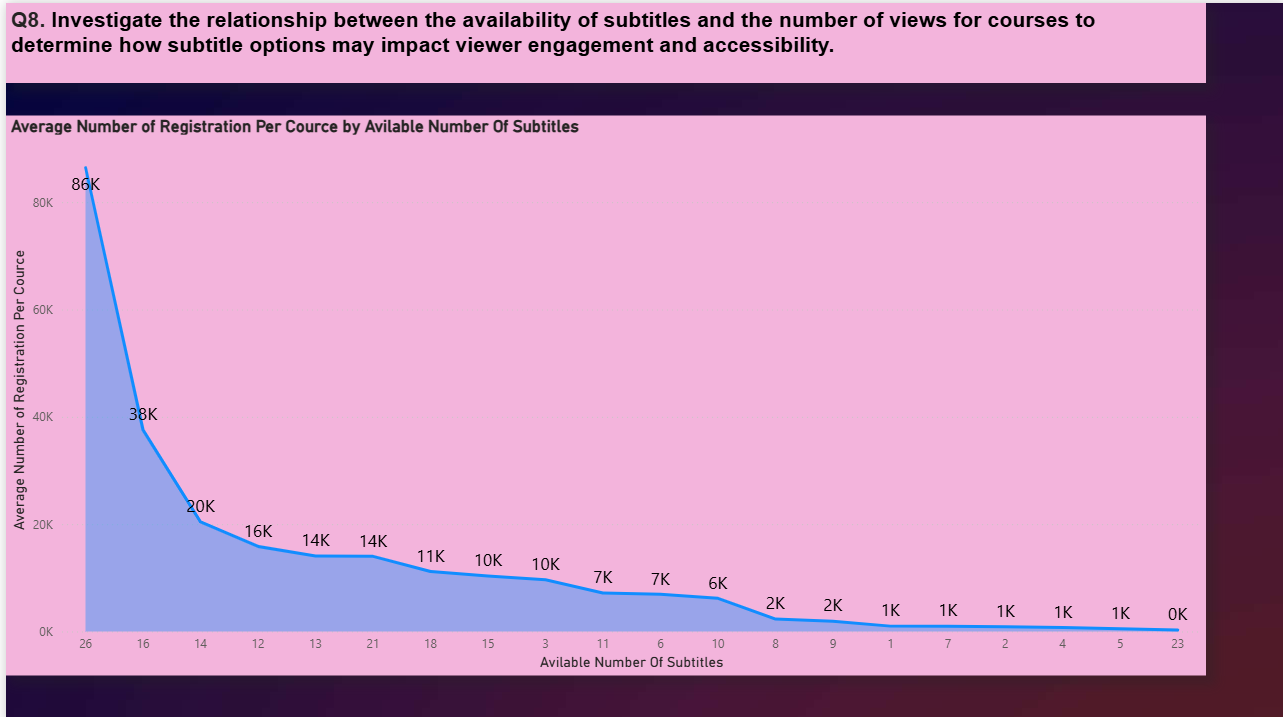

Layout of this report page (visuals, bound fields, positions):
{"tool":"powerbi","page":{"name":"Q8","canvas":[1280,720],"ordinal":8},"visuals":[{"type":"areaChart","fields":{"Category":["Online_Courses (2).Avilable Number Of Subtitles"],"Y":["Online_Courses.Average Number of Registration Per Cource"]},"box":[0,112,1200,560],"z":0},{"type":"textbox","box":[0,0,1200,80],"z":1000}]}

Visuals, with their boxes in screenshot pixels (x1, y1, x2, y2), scaled from the page's 1280x720 canvas onto the 1283x717 screenshot:
areaChart - Online_Courses (2).Avilable Number Of Subtitles x Online_Courses.Average Number of Registration Per Cource: [left=0, top=112, right=1203, bottom=669]
textbox: [left=0, top=0, right=1203, bottom=80]
